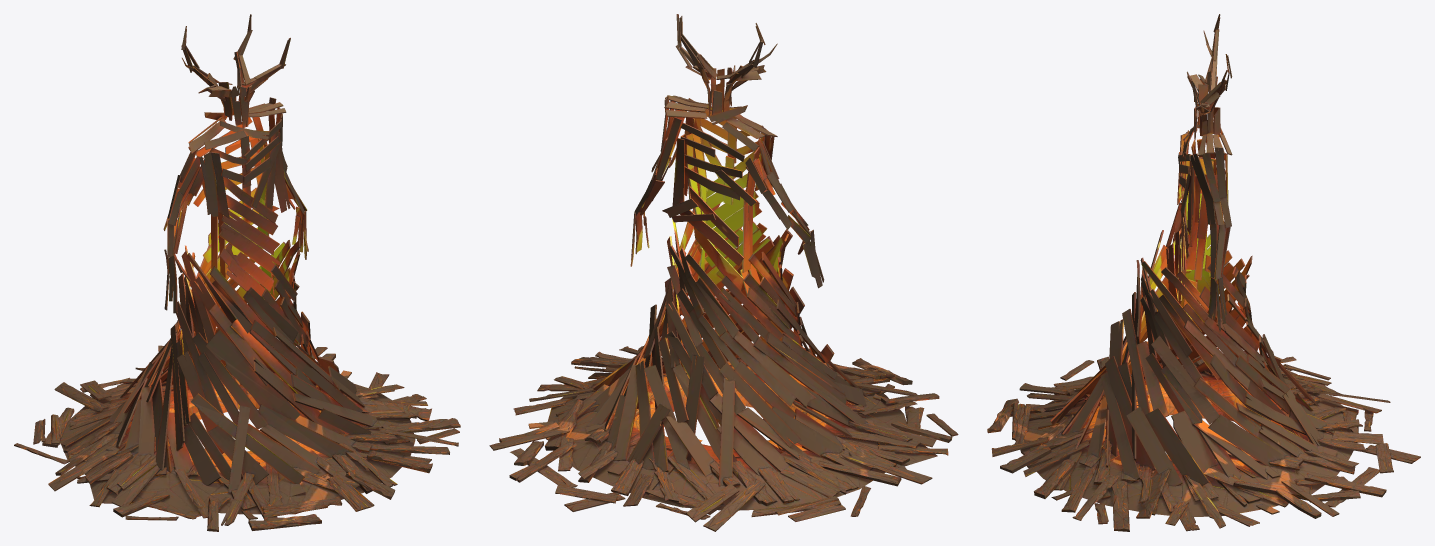
The model's file is Amber_Effigy.glb.
The picture shows the model from 3 angles, left to right: view 1: azimuth 30°, elevation 25°; view 2: azimuth 150°, elevation 25°; view 3: azimuth 270°, elevation 25°; orthographic projection. The views are drawn at different scales.
Visible parts, largest first — view 1: models\npc\effigy_amber\effigy_amber_model.vmdl_c.model; view 2: models\npc\effigy_amber\effigy_amber_model.vmdl_c.model; view 3: models\npc\effigy_amber\effigy_amber_model.vmdl_c.model.
Boxes of the visible parts, bbox=[...] form: models\npc\effigy_amber\effigy_amber_model.vmdl_c.model: bbox=[14, 14, 460, 531]; models\npc\effigy_amber\effigy_amber_model.vmdl_c.model: bbox=[489, 14, 958, 531]; models\npc\effigy_amber\effigy_amber_model.vmdl_c.model: bbox=[987, 14, 1420, 531].
Size of the model in its own units: 17.5 by 18.63 by 17.82.
1 material, 1 textured.
